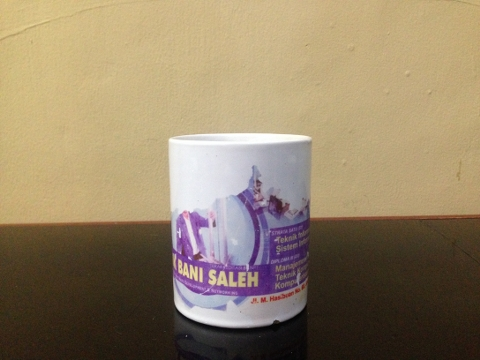tempat minum: (169, 134, 310, 329)
